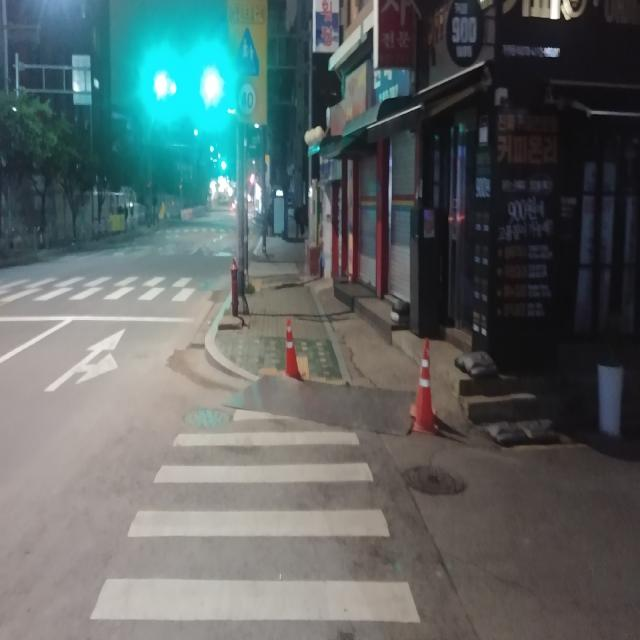횡단보도: (89, 407, 421, 625), (1, 278, 198, 302)
